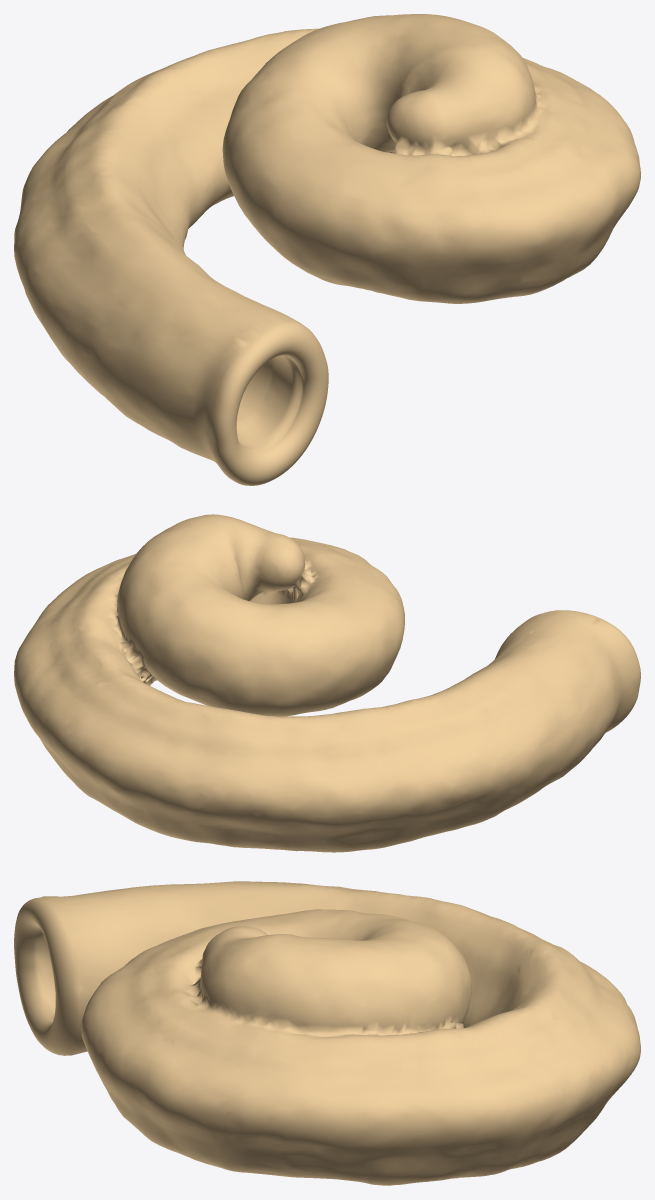
Rendered from semirostrum_cochlea.glb.
3 renders of one model, top to bottom at view 1: azimuth 30°, elevation 25°; view 2: azimuth 150°, elevation 25°; view 3: azimuth 270°, elevation 25°, orthographic. The views are drawn at different scales.
Visible parts, largest first — view 1: Semirostrum_ceruttii_Cochlea_Hollow; view 2: Semirostrum_ceruttii_Cochlea_Hollow; view 3: Semirostrum_ceruttii_Cochlea_Hollow.
Part boxes in pixels (x1,y1,x2,y2): Semirostrum_ceruttii_Cochlea_Hollow: (14, 14, 640, 485); Semirostrum_ceruttii_Cochlea_Hollow: (14, 514, 640, 852); Semirostrum_ceruttii_Cochlea_Hollow: (14, 881, 640, 1185).
Bounding box in the file's own units: 9.83 × 4.47 × 9.85.
